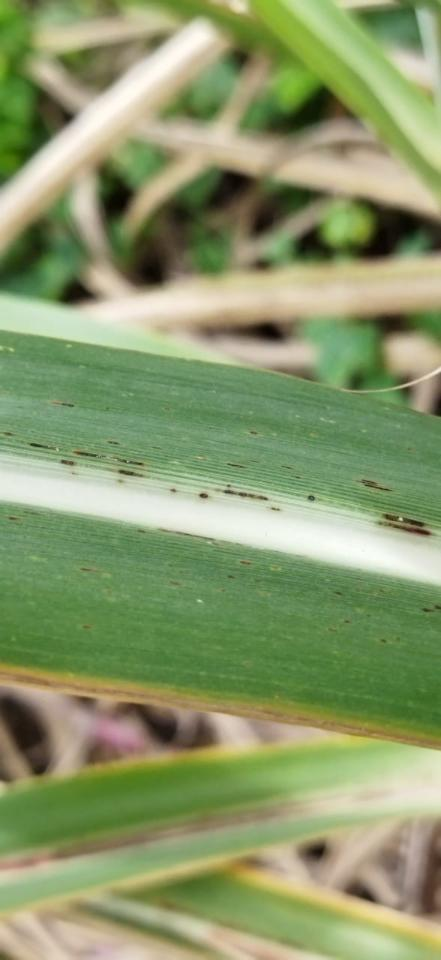Rust: (72, 449, 145, 467), (376, 518, 433, 538), (156, 527, 217, 542), (382, 512, 426, 528), (222, 489, 269, 501), (30, 441, 60, 452), (364, 483, 393, 493), (118, 469, 143, 479), (226, 461, 247, 470), (51, 400, 74, 408), (355, 480, 378, 486), (79, 568, 100, 573), (60, 459, 75, 466), (420, 607, 435, 613), (332, 589, 343, 597), (361, 479, 378, 484), (239, 560, 253, 566), (8, 515, 21, 521), (107, 440, 120, 446), (270, 505, 282, 511), (152, 445, 164, 451), (248, 430, 259, 436), (225, 574, 236, 580), (307, 494, 316, 501), (199, 492, 208, 499), (170, 581, 182, 586), (3, 431, 13, 437), (281, 465, 293, 469), (379, 639, 388, 644), (343, 620, 353, 624), (329, 628, 339, 632), (138, 529, 147, 533), (82, 625, 91, 629), (395, 636, 401, 642), (170, 488, 177, 493), (71, 472, 79, 476), (435, 604, 440, 610), (365, 614, 372, 618), (407, 447, 414, 451), (226, 484, 231, 489), (295, 475, 301, 479), (165, 407, 171, 411), (117, 480, 124, 483), (209, 426, 213, 430), (106, 407, 109, 410)
Yellow: (0, 665, 440, 752)
